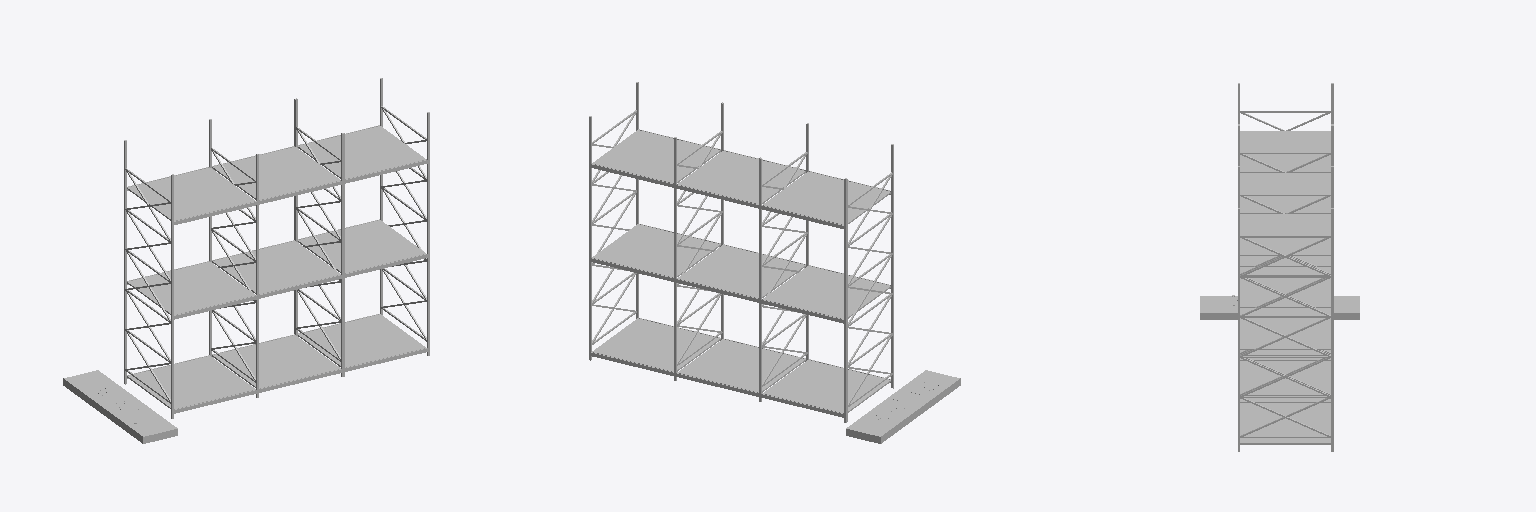
The model's file is 新演示.obj.
The picture shows the model from 3 angles: view 1: azimuth 30°, elevation 25°; view 2: azimuth 150°, elevation 25°; view 3: azimuth 270°, elevation 25°; orthographic projection.
Parts seen in each view (by area): view 1: Shelf4, Shelf1, BoxRack1, Shelf3, RackConfigurator; view 2: Shelf4, Shelf1, Shelf3, BoxRack1, RackConfigurator; view 3: Shelf4, BoxRack1, Shelf3, Shelf1, RackConfigurator.
Boxes of the visible parts, x1,y1,x2,y2 form: Shelf4: [127, 125, 427, 224]; Shelf1: [127, 314, 427, 413]; BoxRack1: [124, 78, 429, 418]; Shelf3: [127, 219, 427, 319]; RackConfigurator: [63, 370, 177, 443]; Shelf4: [591, 129, 890, 228]; Shelf1: [591, 318, 890, 417]; Shelf3: [591, 224, 890, 323]; BoxRack1: [589, 82, 893, 422]; RackConfigurator: [846, 370, 960, 443]; Shelf4: [1240, 131, 1330, 255]; BoxRack1: [1238, 83, 1333, 451]; Shelf3: [1240, 256, 1330, 349]; Shelf1: [1240, 350, 1330, 444]; RackConfigurator: [1200, 296, 1359, 319].
Size of the model in its own units: 4.41 by 3.36 by 2.